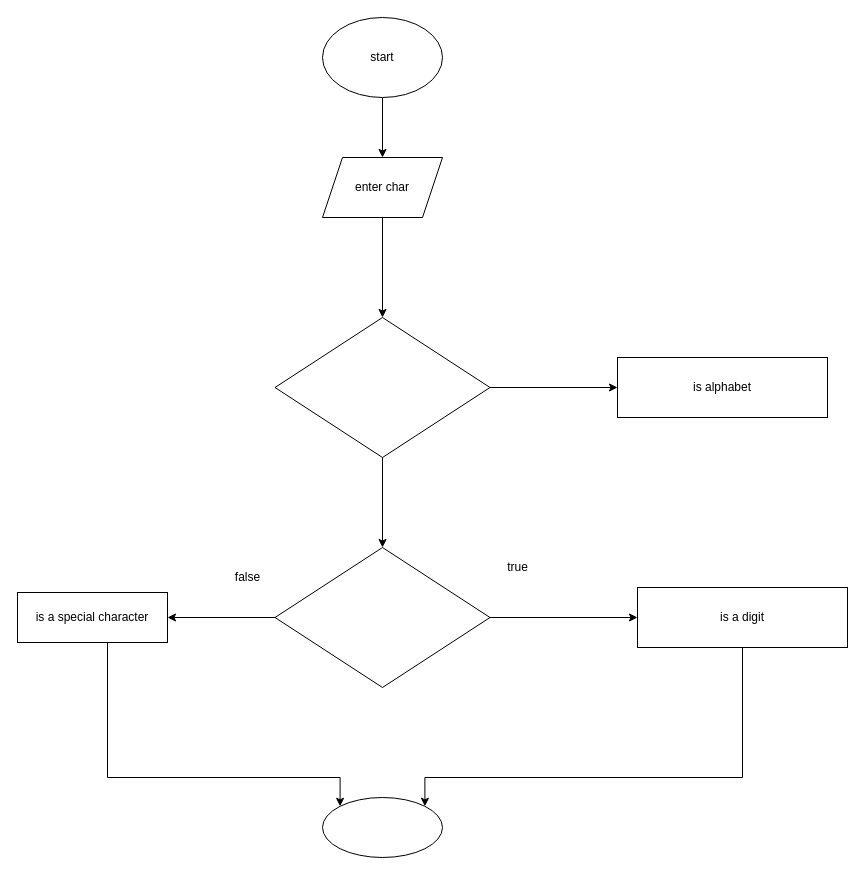
The diagram is 865 pixels wide and 875 high, and some of its shapes have lost their labels. The shapes that lost their labels are listed below. From the top down, each one's box as (x1, y1, x2, y2) in pixels, then its label:
(274, 316, 490, 458): if char > = a && char < = z || char > = A && char < = Z
(274, 546, 490, 688): if char > = 0 && char < = 9
(322, 796, 442, 858): stop
